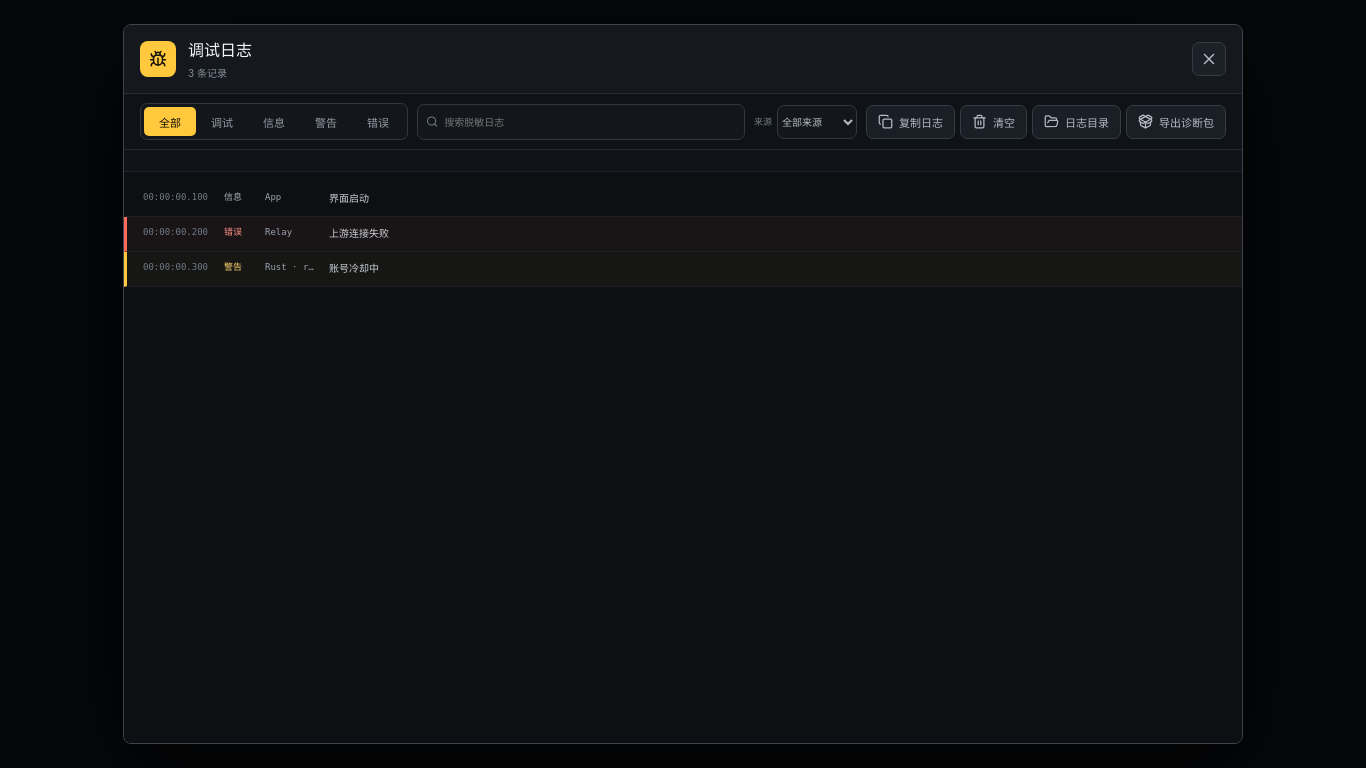
DebugPanel › filters historical logs by level, source, and search text
Expected: the text "界面启动" is shown, [329,193,369,204]
Expected: the text "账号冷却中" is shown, [329,263,379,274]
Click the button "错误" at (378, 122), box [352,107,404,136]
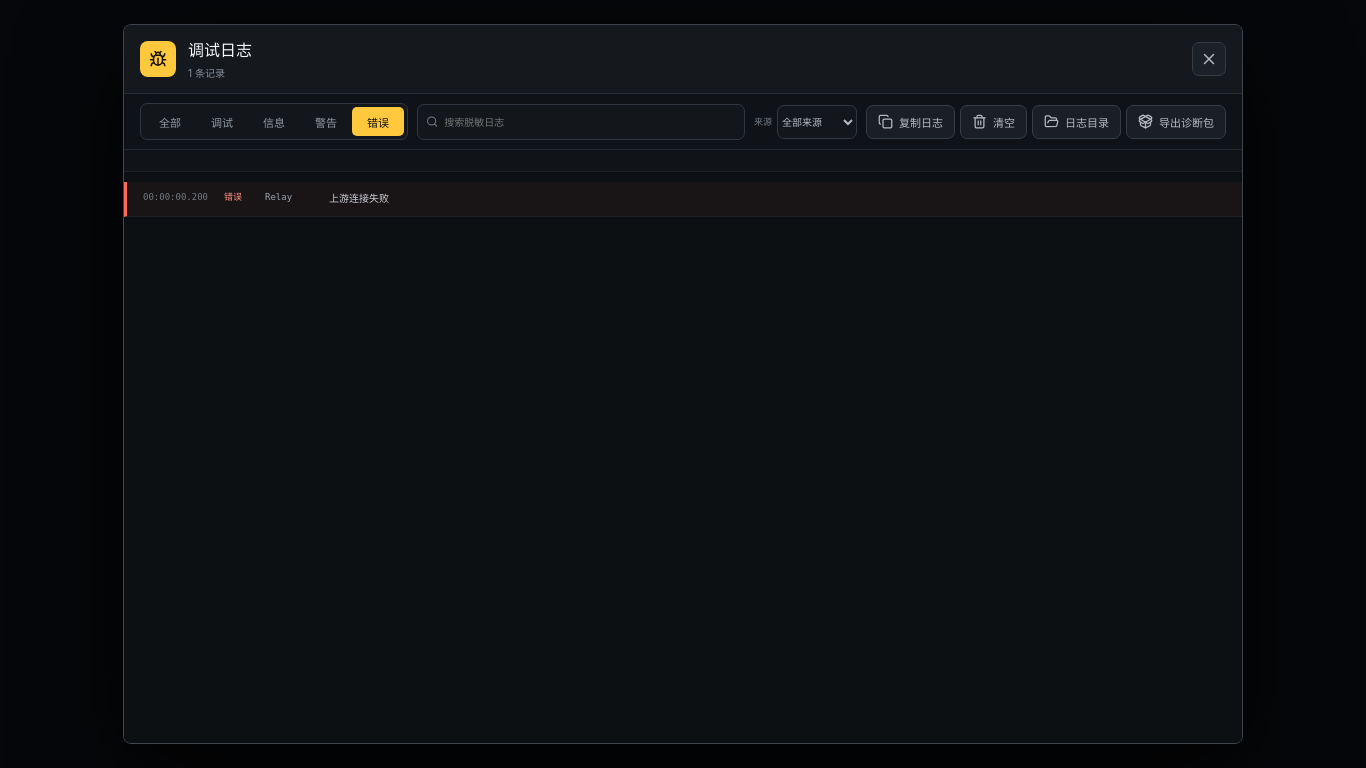
Expected: the text "上游连接失败" is shown, [329,193,389,204]
Expected: the text "界面启动" is gone
Click the button "全部" at (170, 122), box [144,107,196,136]
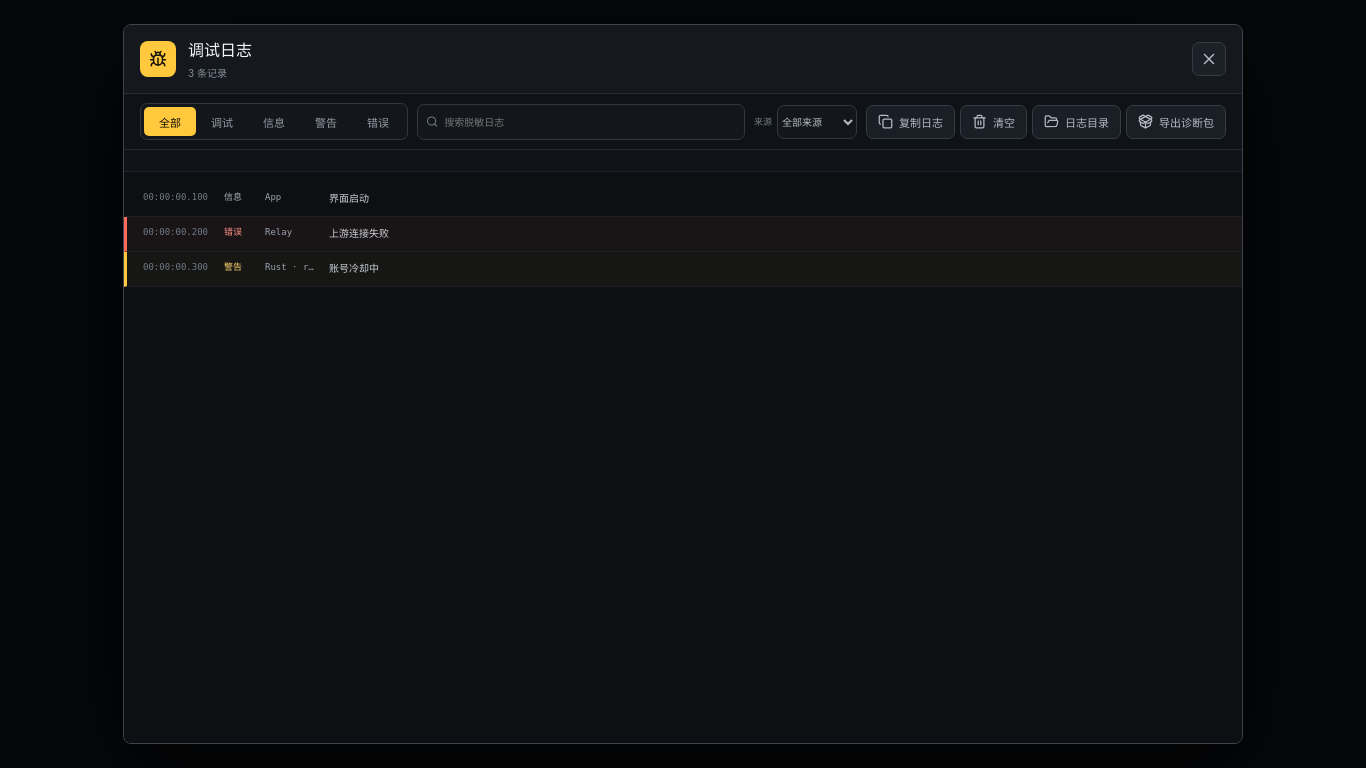
Select "Rust · router" in the dropdown named "日志来源" at (817, 122), box [777,104,857,138]
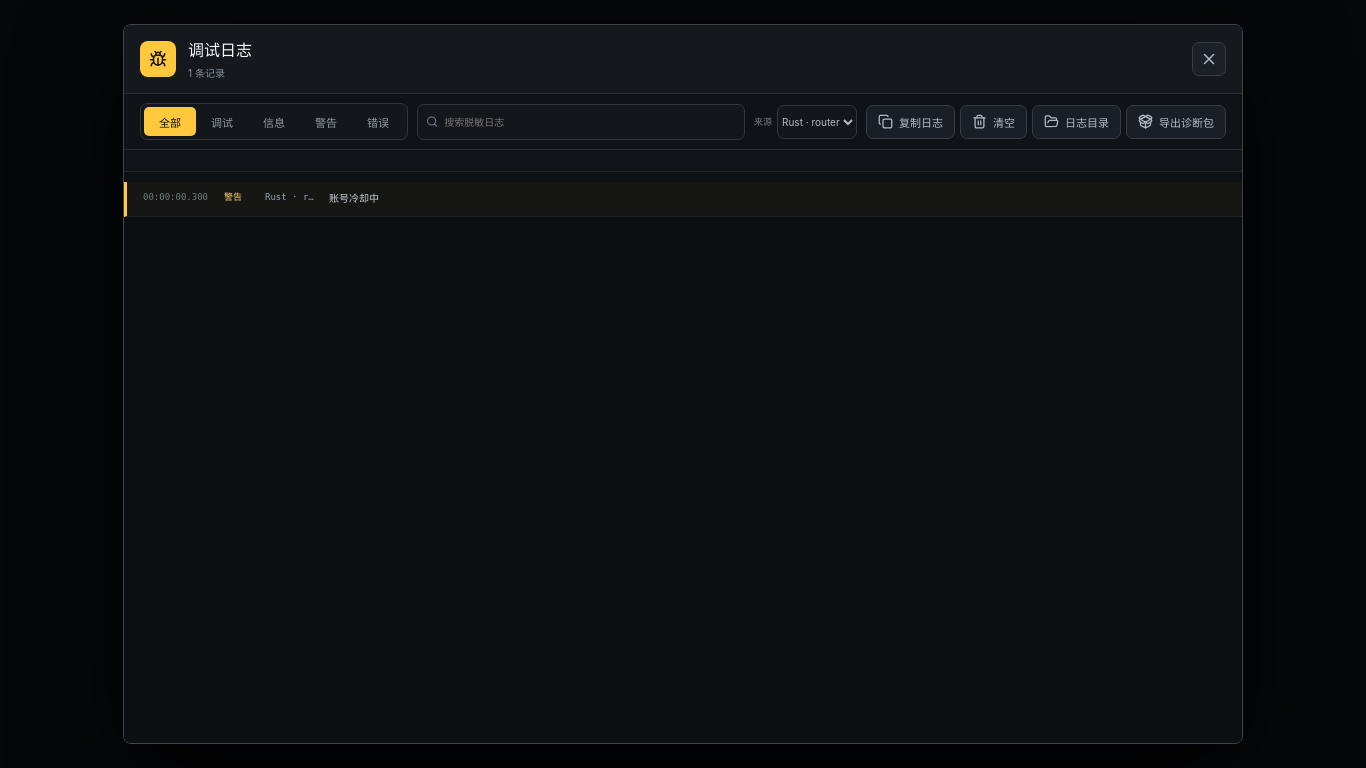
Expected: the text "账号冷却中" is shown, [329,193,379,204]
Expected: the text "上游连接失败" is gone
Select "全部来源" in the dropdown named "日志来源" at (817, 122), box [777,104,857,138]
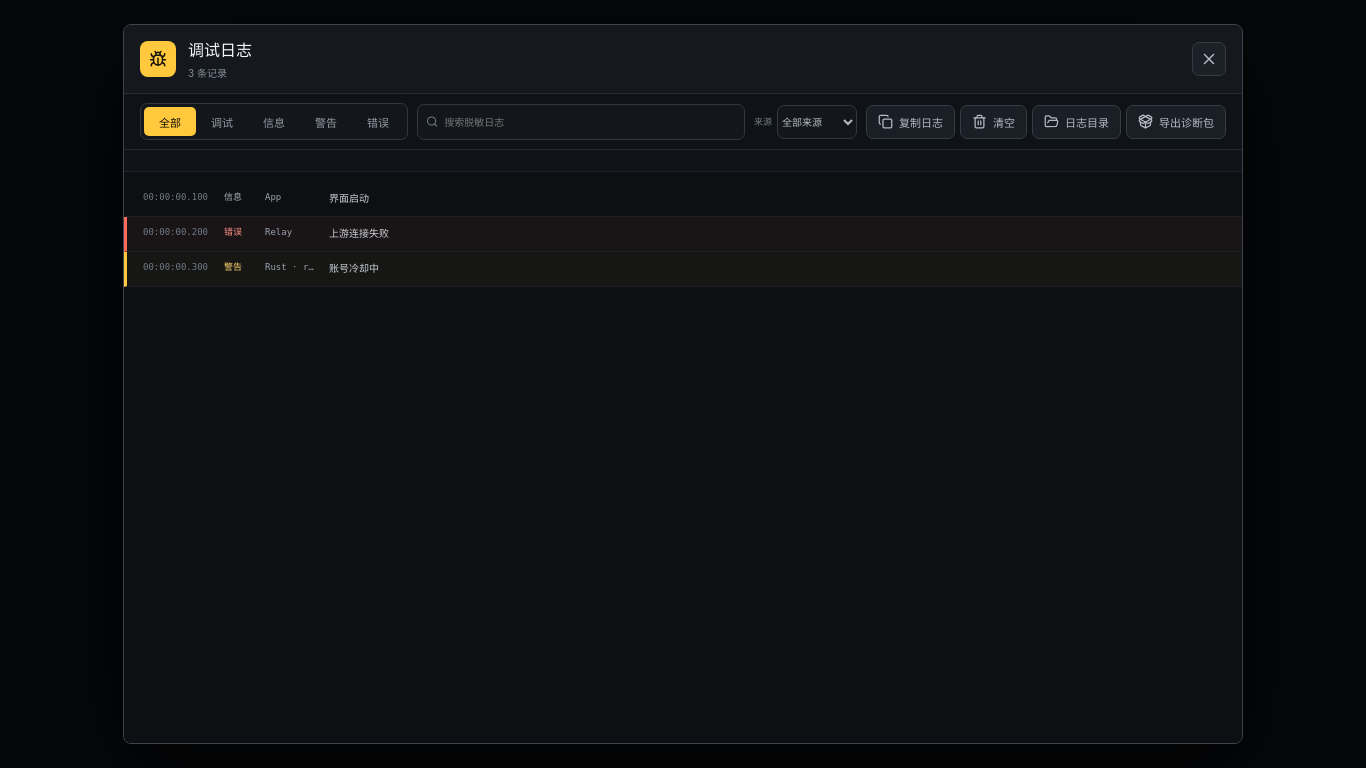
Type "连接" into the search field named "搜索日志" at (590, 122), box [444,104,736,138]
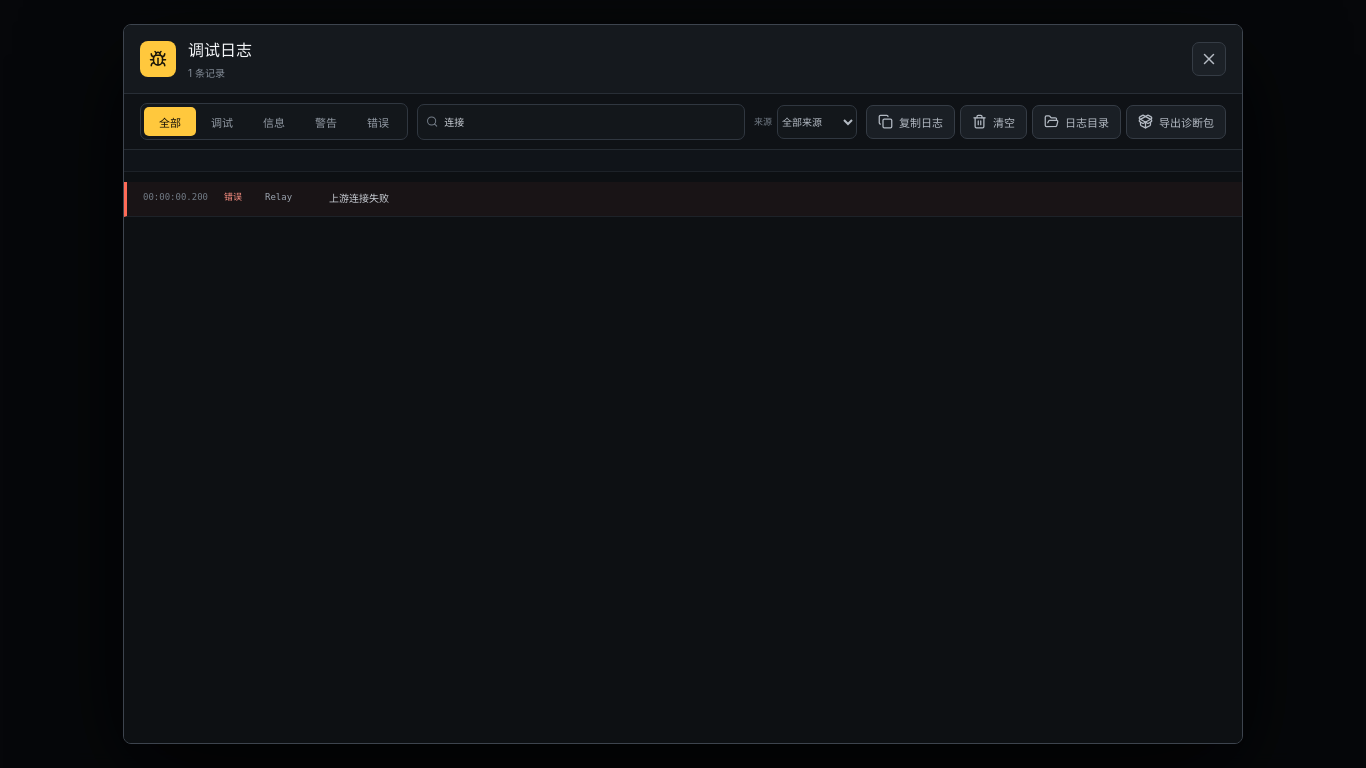
Expected: the text "上游连接失败" is shown, [329,193,389,204]
Expected: the text "账号冷却中" is gone
